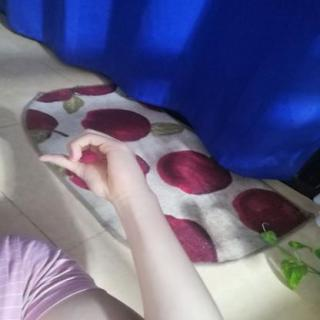WAW: (26, 122, 154, 208)
